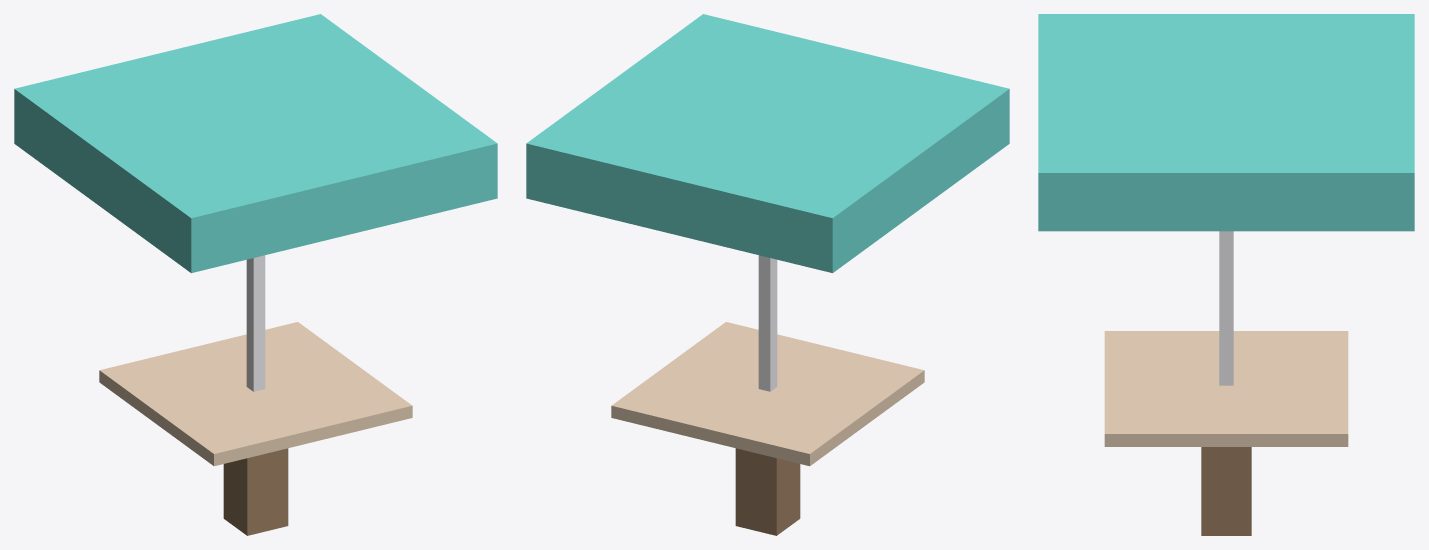
Rendered from prop-cafe-table.glb.
The picture shows the model from 3 angles, left to right: view 1: azimuth 30°, elevation 25°; view 2: azimuth 150°, elevation 25°; view 3: azimuth 270°, elevation 25°; orthographic projection. The views are drawn at different scales.
Visible parts, largest first — view 1: prop-cafe-table; view 2: prop-cafe-table; view 3: prop-cafe-table.
Part boxes in pixels (x1=…): prop-cafe-table: x1=14, y1=14, x2=497, y2=535; prop-cafe-table: x1=526, y1=14, x2=1009, y2=535; prop-cafe-table: x1=1038, y1=14, x2=1414, y2=535.
Size of the model in its own units: 2.1 by 2.66 by 2.1.
